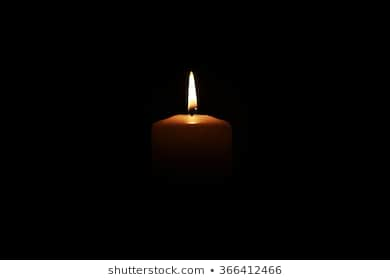Fire: (186, 71, 200, 109)
